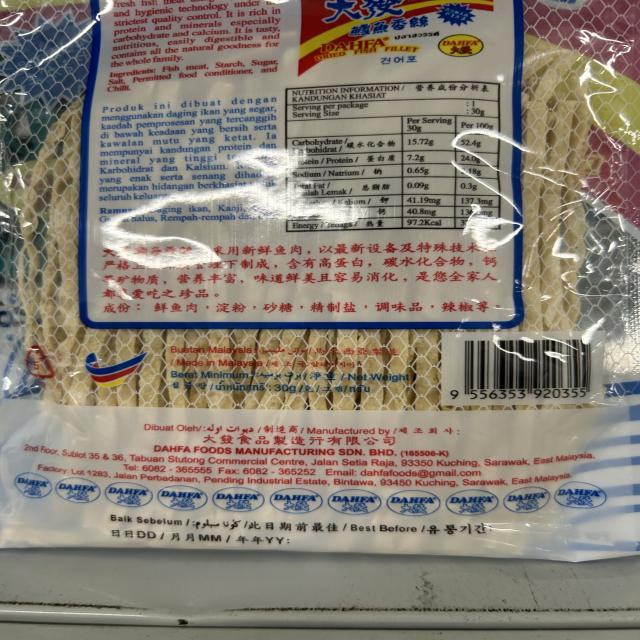object_name: (9, 0, 637, 551)
